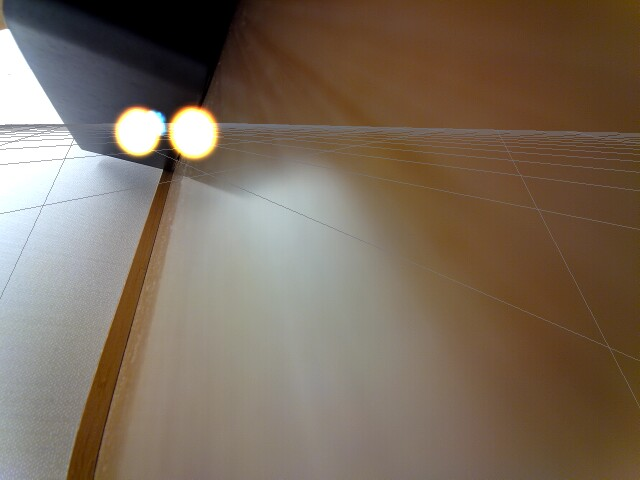firebig: (166, 104, 229, 163)
